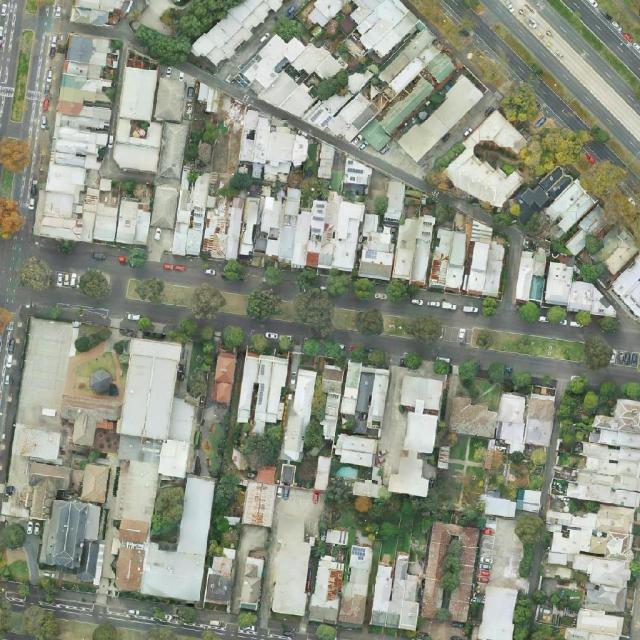building: (536, 391, 640, 615), (3, 317, 91, 522), (329, 360, 446, 505), (42, 34, 116, 244), (111, 336, 207, 480), (236, 17, 347, 128), (438, 108, 547, 218), (439, 365, 560, 457), (140, 470, 220, 603), (112, 66, 192, 178), (305, 192, 401, 280), (512, 248, 626, 321), (512, 248, 626, 321), (229, 464, 284, 615), (222, 107, 316, 195), (102, 459, 160, 593), (396, 74, 484, 162), (426, 214, 512, 300), (203, 187, 301, 262), (426, 216, 508, 299), (419, 522, 480, 623), (305, 539, 373, 628), (38, 498, 109, 582), (337, 0, 422, 62), (303, 190, 365, 274), (326, 66, 388, 146), (377, 27, 446, 97), (370, 551, 427, 631), (271, 517, 313, 616), (373, 76, 439, 135), (280, 368, 319, 462), (91, 189, 154, 247), (389, 210, 437, 286), (57, 395, 122, 449), (390, 210, 436, 286), (516, 163, 577, 217), (250, 354, 290, 436), (173, 170, 210, 256), (543, 178, 598, 233), (304, 81, 357, 136), (589, 222, 640, 277), (359, 213, 397, 281), (316, 363, 344, 439), (203, 546, 238, 606), (569, 204, 612, 247), (236, 353, 261, 424), (481, 489, 542, 518), (335, 156, 376, 194), (290, 209, 314, 269), (211, 351, 237, 404), (150, 184, 179, 230), (80, 463, 110, 504), (359, 117, 394, 152), (423, 50, 458, 84), (383, 180, 407, 226), (84, 366, 117, 398), (564, 228, 593, 257), (195, 83, 222, 114), (316, 142, 336, 180), (314, 456, 333, 491)
greenland: (320, 491, 438, 560), (166, 293, 251, 378), (576, 151, 640, 246), (511, 114, 597, 182), (289, 255, 386, 315), (470, 327, 585, 362), (286, 278, 348, 341), (290, 335, 389, 372), (562, 376, 640, 421), (208, 470, 246, 559), (146, 476, 189, 552), (501, 511, 548, 580), (179, 116, 223, 176), (497, 79, 546, 130), (240, 418, 285, 472), (10, 29, 35, 122), (566, 233, 609, 286), (182, 279, 229, 327), (68, 261, 117, 306), (482, 358, 535, 397), (575, 333, 618, 376), (269, 1, 310, 46), (303, 389, 327, 458), (16, 254, 57, 293), (245, 288, 282, 325), (253, 254, 289, 291), (453, 355, 487, 390), (555, 421, 589, 456), (518, 301, 567, 325), (133, 273, 169, 305), (407, 313, 444, 343), (0, 197, 25, 239), (512, 597, 534, 640), (498, 97, 525, 127), (514, 82, 541, 111), (5, 612, 34, 639), (1, 521, 27, 551), (293, 266, 321, 293), (356, 308, 384, 335), (382, 314, 414, 337), (162, 284, 194, 307), (272, 299, 299, 326), (332, 307, 359, 331), (220, 291, 248, 314), (388, 280, 415, 302), (221, 259, 246, 282), (0, 596, 13, 640), (597, 316, 620, 335), (249, 333, 269, 354), (492, 210, 514, 228), (571, 310, 593, 327), (0, 307, 14, 333), (125, 278, 140, 300), (278, 336, 292, 354), (492, 229, 507, 242), (57, 272, 75, 281), (435, 357, 448, 368)
metalled_road: (248, 86, 440, 198), (10, 591, 276, 640), (89, 258, 257, 322), (20, 3, 58, 140), (442, 310, 589, 341), (583, 133, 640, 196), (30, 238, 121, 277), (181, 61, 246, 102), (62, 11, 134, 42), (263, 306, 316, 347), (437, 188, 494, 225), (501, 226, 524, 311), (0, 236, 26, 309), (352, 331, 421, 358), (217, 306, 268, 337), (341, 292, 396, 315), (610, 307, 640, 349), (30, 284, 80, 309), (271, 276, 303, 308), (12, 168, 32, 208), (404, 302, 444, 322), (15, 4, 38, 36), (383, 309, 404, 323), (406, 311, 410, 315)
